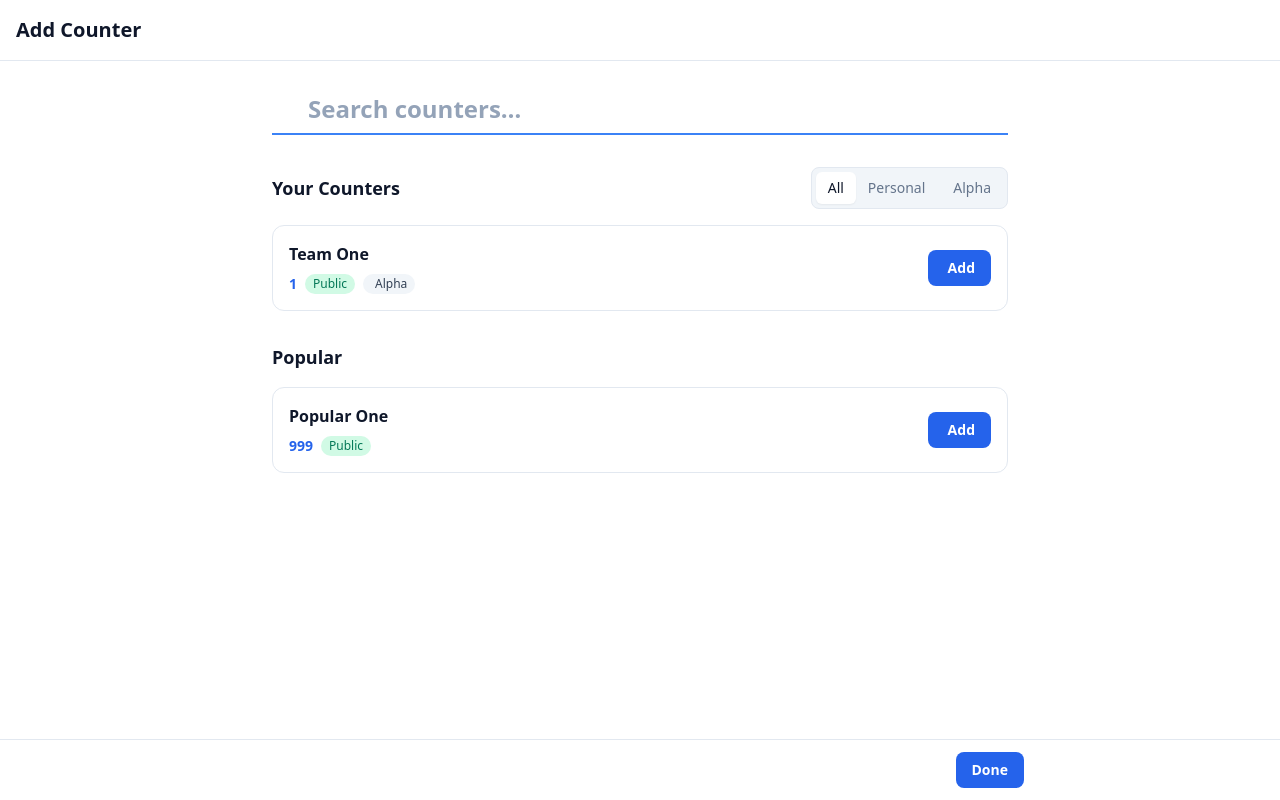
AddCounterOverlay › shows an empty state when the filter matches nothing
Click the button "Personal": (897, 188) top-left (856, 172), bottom-right (937, 204)
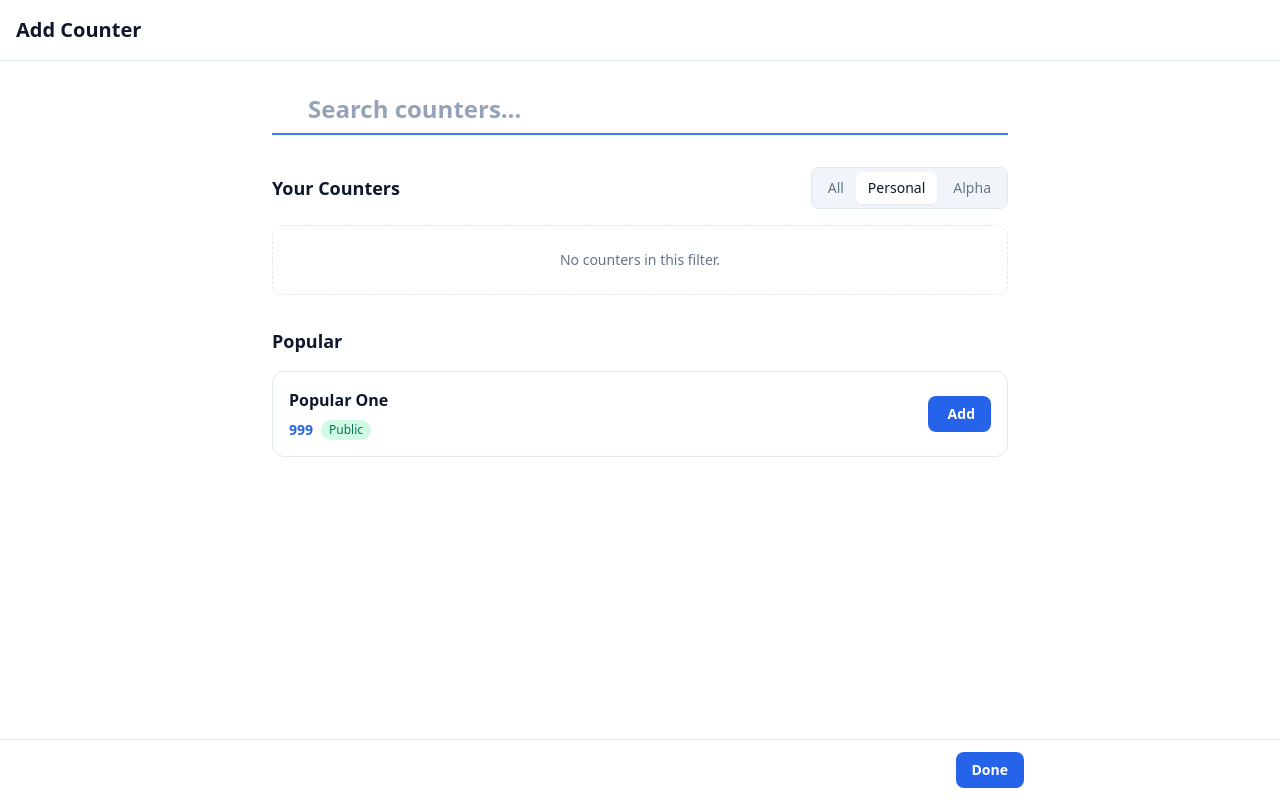
Expected: the text "No counters in this filter." is shown, top-left (272, 225), bottom-right (1008, 295)
